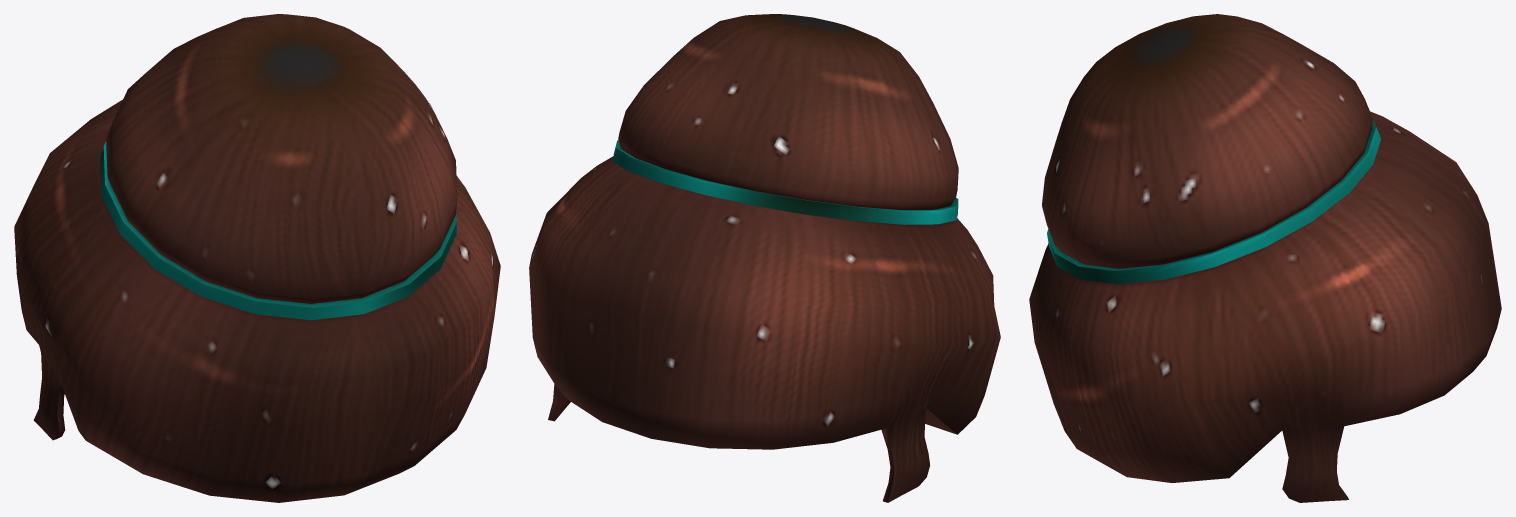
3 views of the same model, side by side, from view 1: azimuth 30°, elevation 25°; view 2: azimuth 150°, elevation 25°; view 3: azimuth 270°, elevation 25° (orthographic). The views are drawn at different scales.
Visible parts, largest first — view 1: Mesh; view 2: Mesh; view 3: Mesh.
Part boxes in pixels (left/top/right/bottom): Mesh: left=14, top=14, right=500, bottom=502; Mesh: left=529, top=14, right=1000, bottom=502; Mesh: left=1029, top=14, right=1501, bottom=502.
Bounding box in the file's own units: 1.39 × 1.31 × 1.39.
